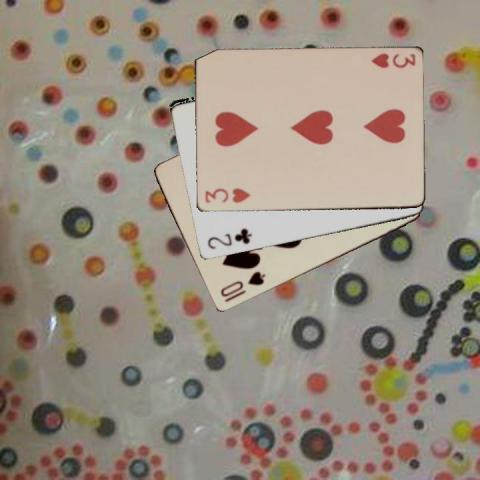10s: (217, 269, 266, 299)
2c: (204, 226, 253, 251)
3h: (202, 185, 252, 205), (368, 51, 417, 70)
